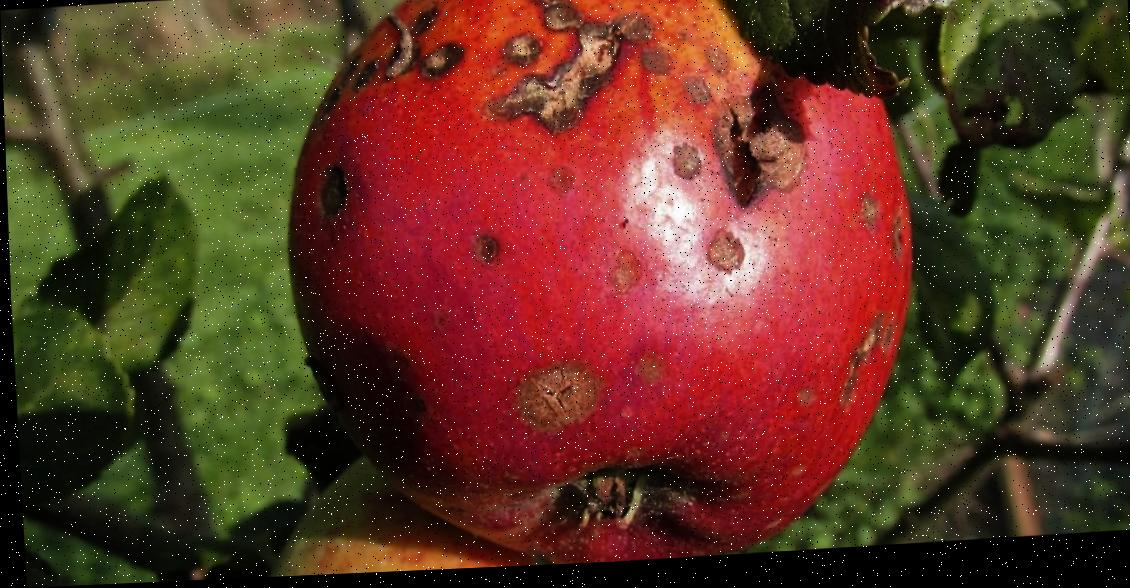BLOTCH: (246, 0, 980, 570)
